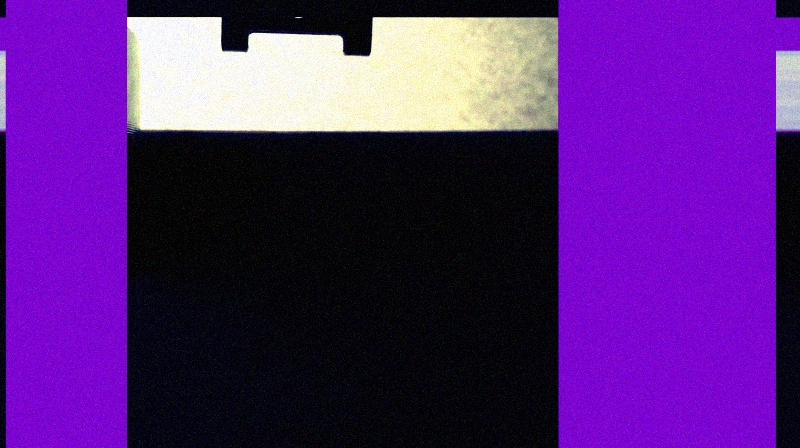O002: (217, 0, 378, 60)
